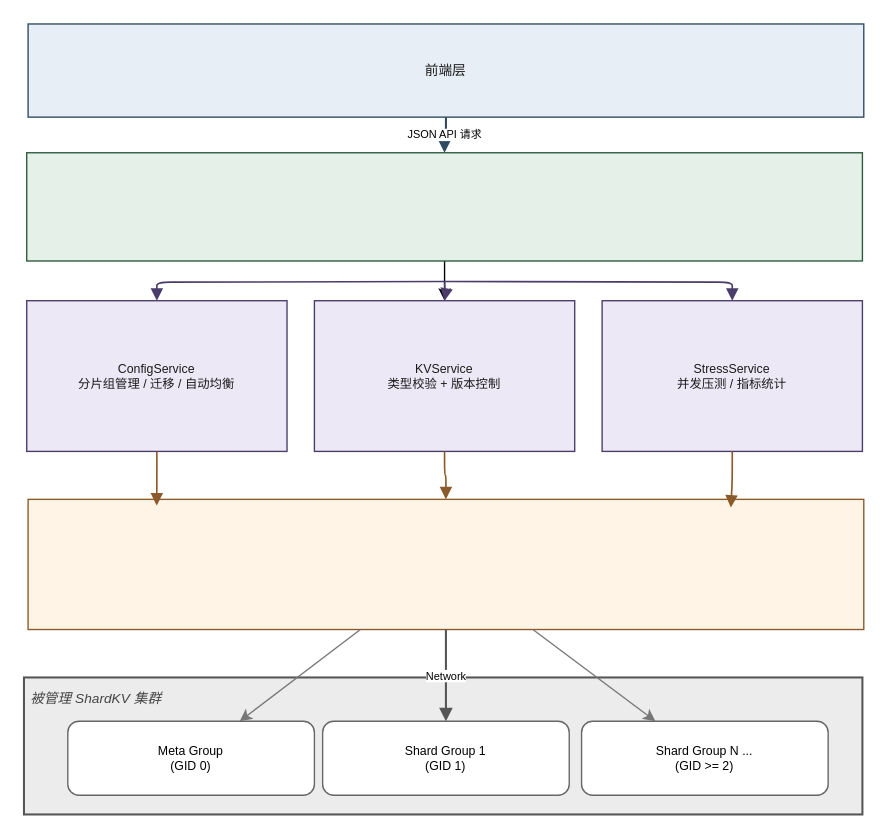
Image size: 889x840. Some labels were removed from this diagram. Here are the shapes that lost their labels. From the top down, the box of each, then its label:
(25, 151, 862, 261): API 层 Router & Handler
(27, 498, 864, 630): 适配层 shardkv + docker
